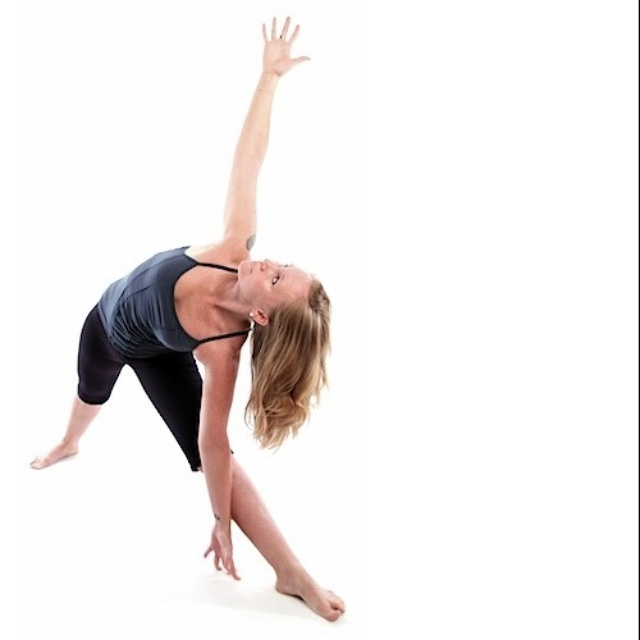Triangle_Pose: (20, 15, 353, 636)
